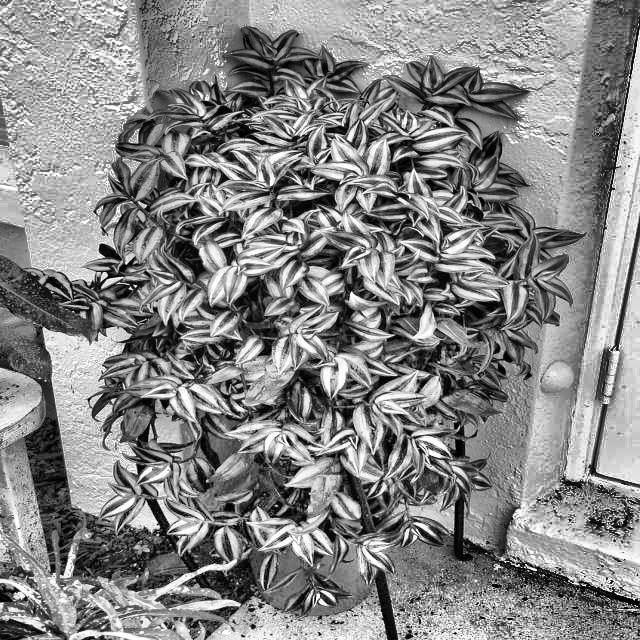plants: (39, 17, 592, 604)
